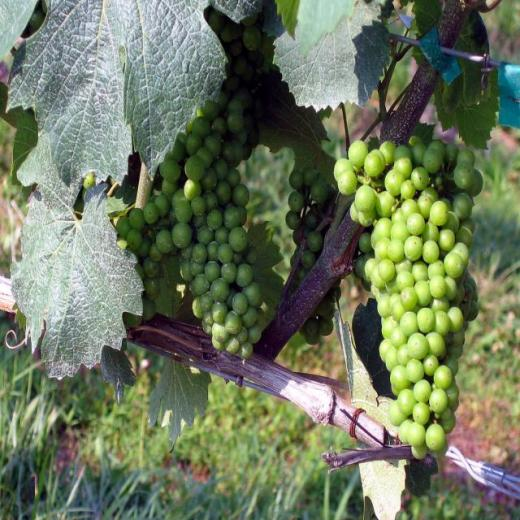Orange: (117, 8, 265, 360), (333, 135, 479, 460), (286, 168, 342, 346)
